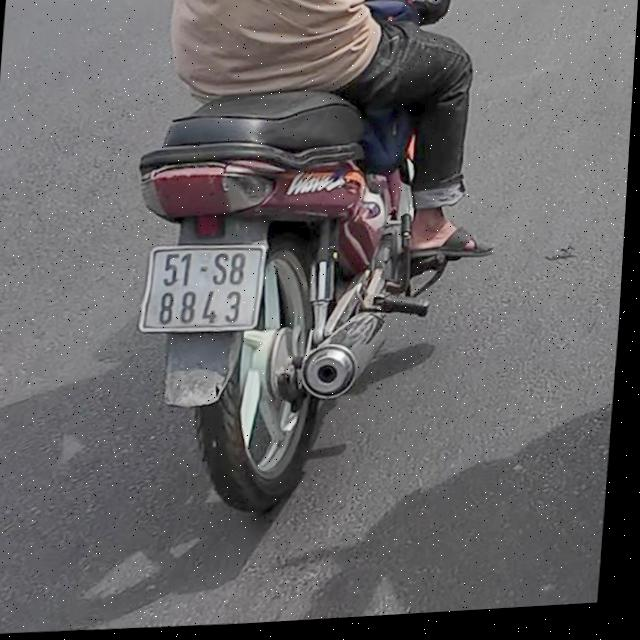motorcycle: (102, 74, 438, 520)
plate: (136, 234, 268, 339)
